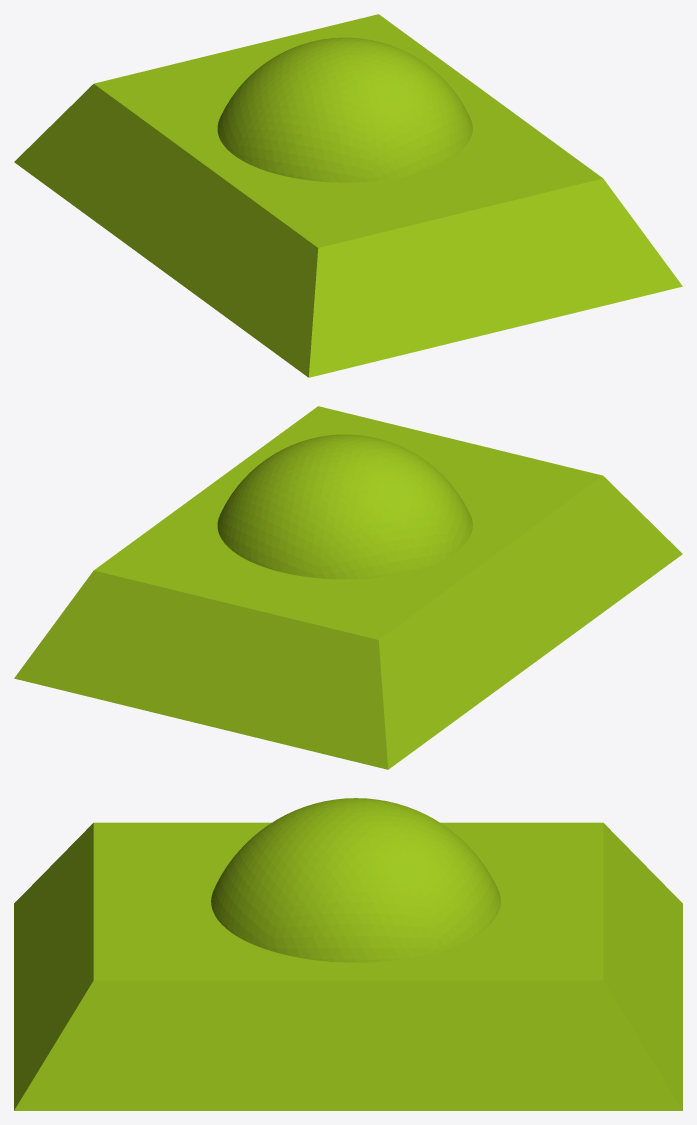
File: turret.obj
3 views of the same model, one above another, from view 1: azimuth 30°, elevation 25°; view 2: azimuth 150°, elevation 25°; view 3: azimuth 270°, elevation 25° (orthographic). The views are drawn at different scales.
Visible parts, largest first — view 1: Object.1; view 2: Object.1; view 3: Object.1.
Part boxes in pixels (box(x1,y1,x2,y2)): Object.1: box(14, 14, 682, 377); Object.1: box(14, 406, 682, 769); Object.1: box(14, 798, 682, 1110).
Size of the model in its own units: 6.03 by 2.64 by 8.22.
